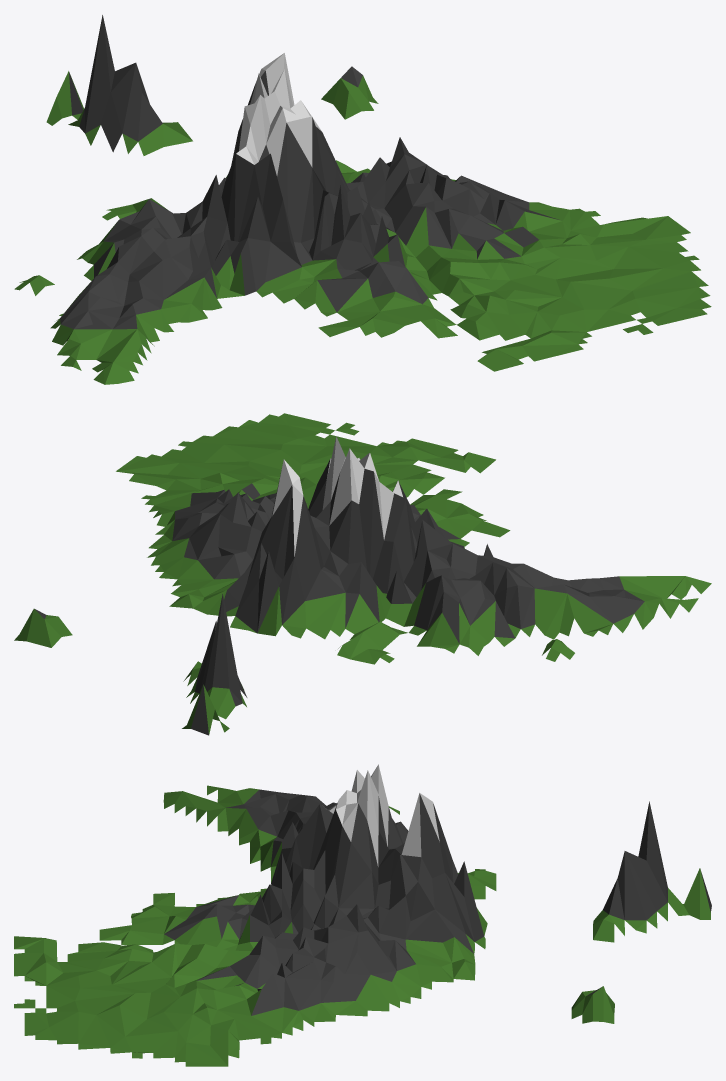
The model's file is Mountain6_low.fbx.
3 views of the same model, one above another, from view 1: azimuth 30°, elevation 25°; view 2: azimuth 150°, elevation 25°; view 3: azimuth 270°, elevation 25° (orthographic). The views are drawn at different scales.
Visible parts, largest first — view 1: Plane.018; view 2: Plane.018; view 3: Plane.018.
Boxes of the visible parts, x1,y1,x2,y2 form: Plane.018: [14, 15, 711, 384]; Plane.018: [14, 413, 711, 735]; Plane.018: [14, 764, 711, 1066].
Size of the model in its own units: 1386 by 376 by 1480.
